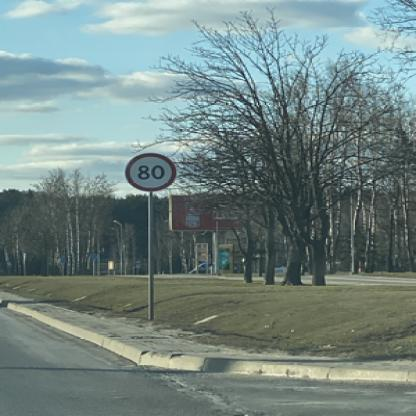Speed Limit 80: (126, 152, 175, 190)
